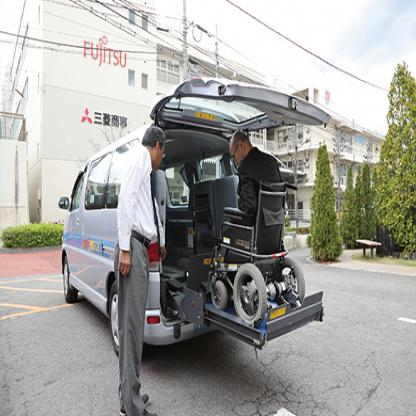wheelchair: (214, 133, 308, 321)
